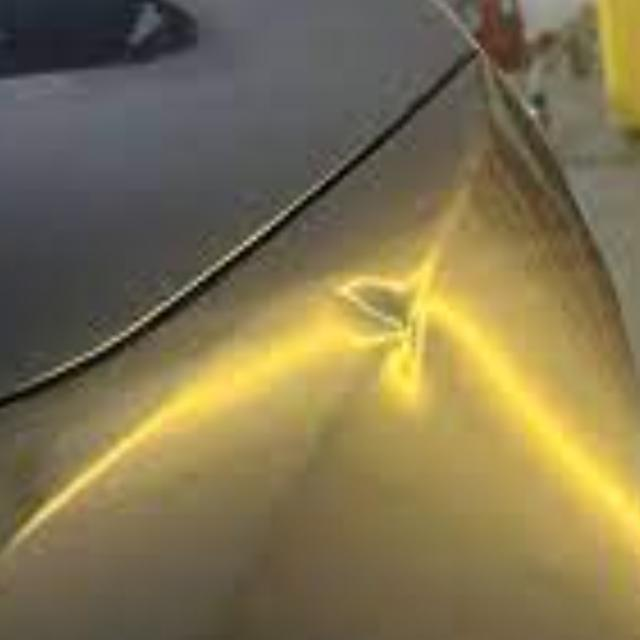dents: (328, 252, 481, 432)
